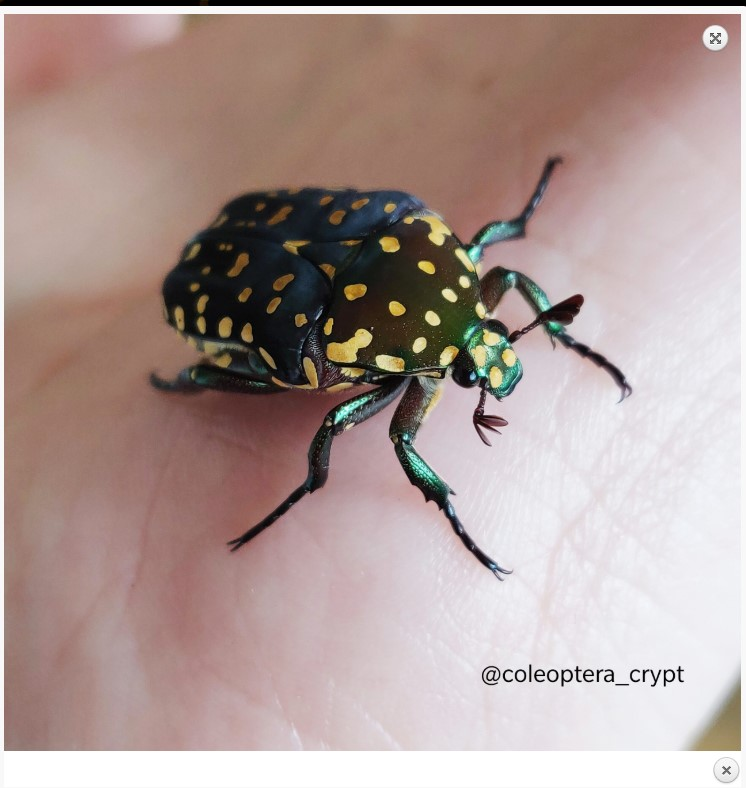Protaetia_niveoguttata: (158, 143, 637, 584)
